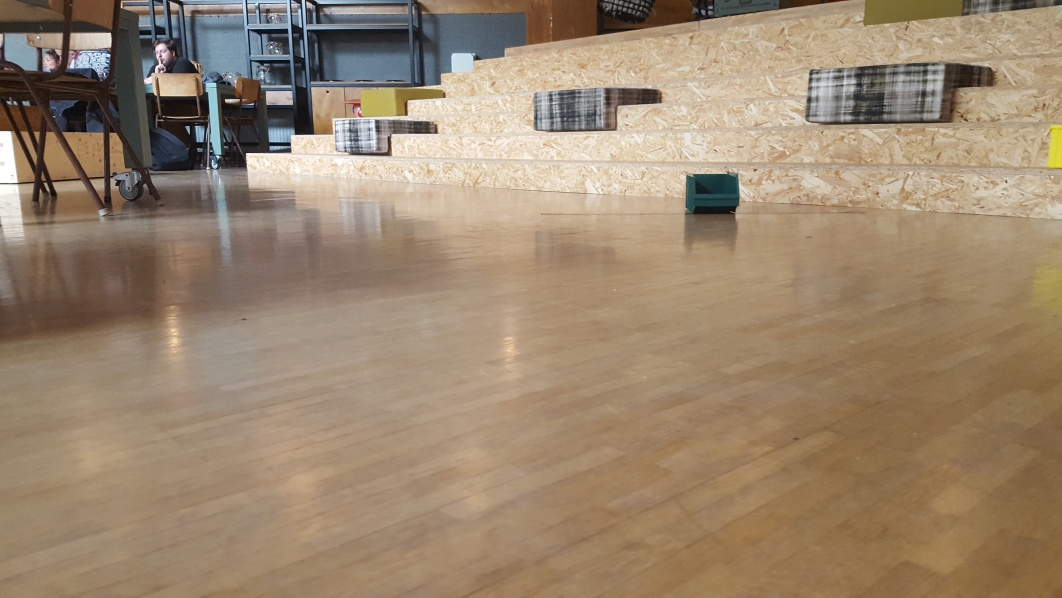tray: (679, 170, 746, 216)
